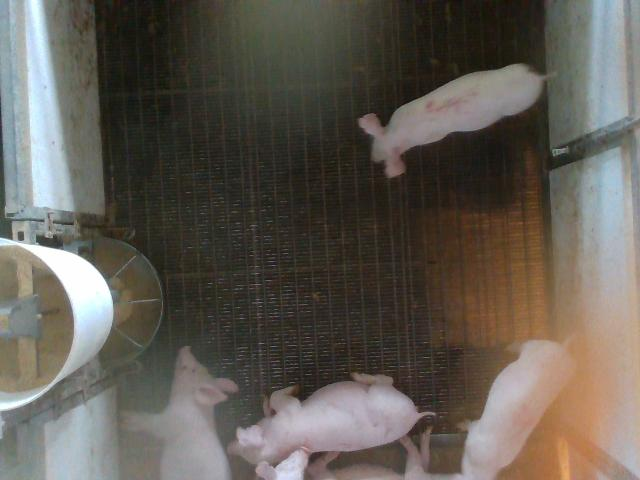pig-4: (462, 340, 575, 479)
pig-5: (358, 64, 549, 177)
